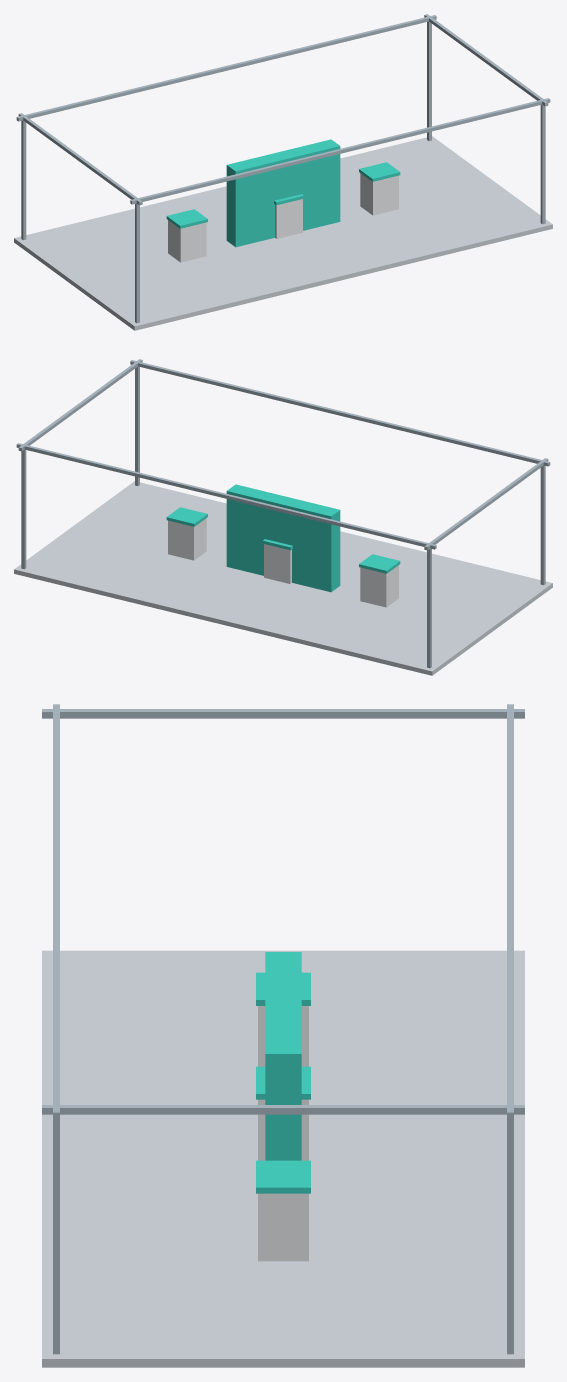
3 renders of one model, top to bottom at view 1: azimuth 30°, elevation 25°; view 2: azimuth 150°, elevation 25°; view 3: azimuth 270°, elevation 25°, orthographic. The views are drawn at different scales.
Parts seen in each view (by area): view 1: Exhibition Booth Concept; view 2: Exhibition Booth Concept; view 3: Exhibition Booth Concept.
Part boxes in pixels (left/top/right/bottom): Exhibition Booth Concept: left=14, top=14, right=552, bottom=330; Exhibition Booth Concept: left=14, top=359, right=552, bottom=675; Exhibition Booth Concept: left=42, top=704, right=524, bottom=1367.
Bounding box in the file's own units: 12 × 3.49 × 6.
